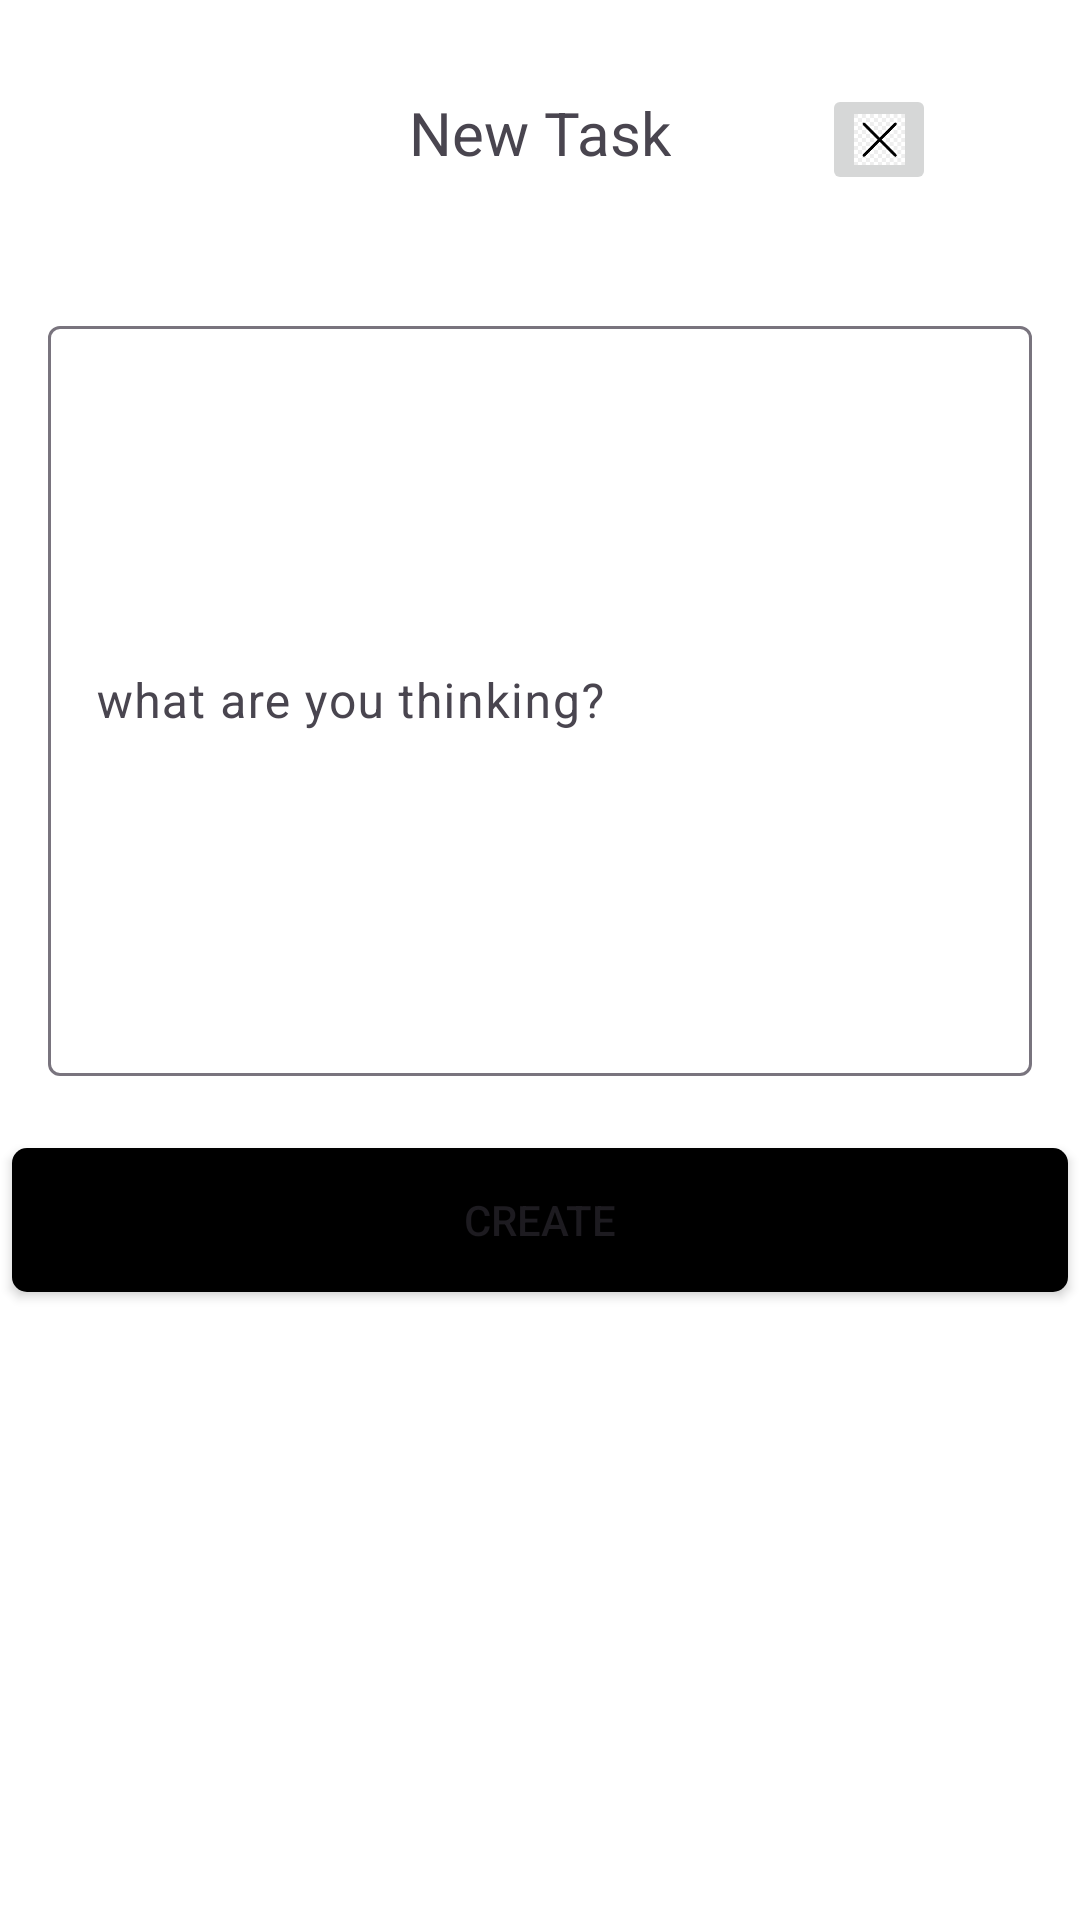

Icon bounding boxes for this 1080*1920 phone screenshot, format (x1, y1, x2, y2):
cancel: (834, 102, 924, 177)
